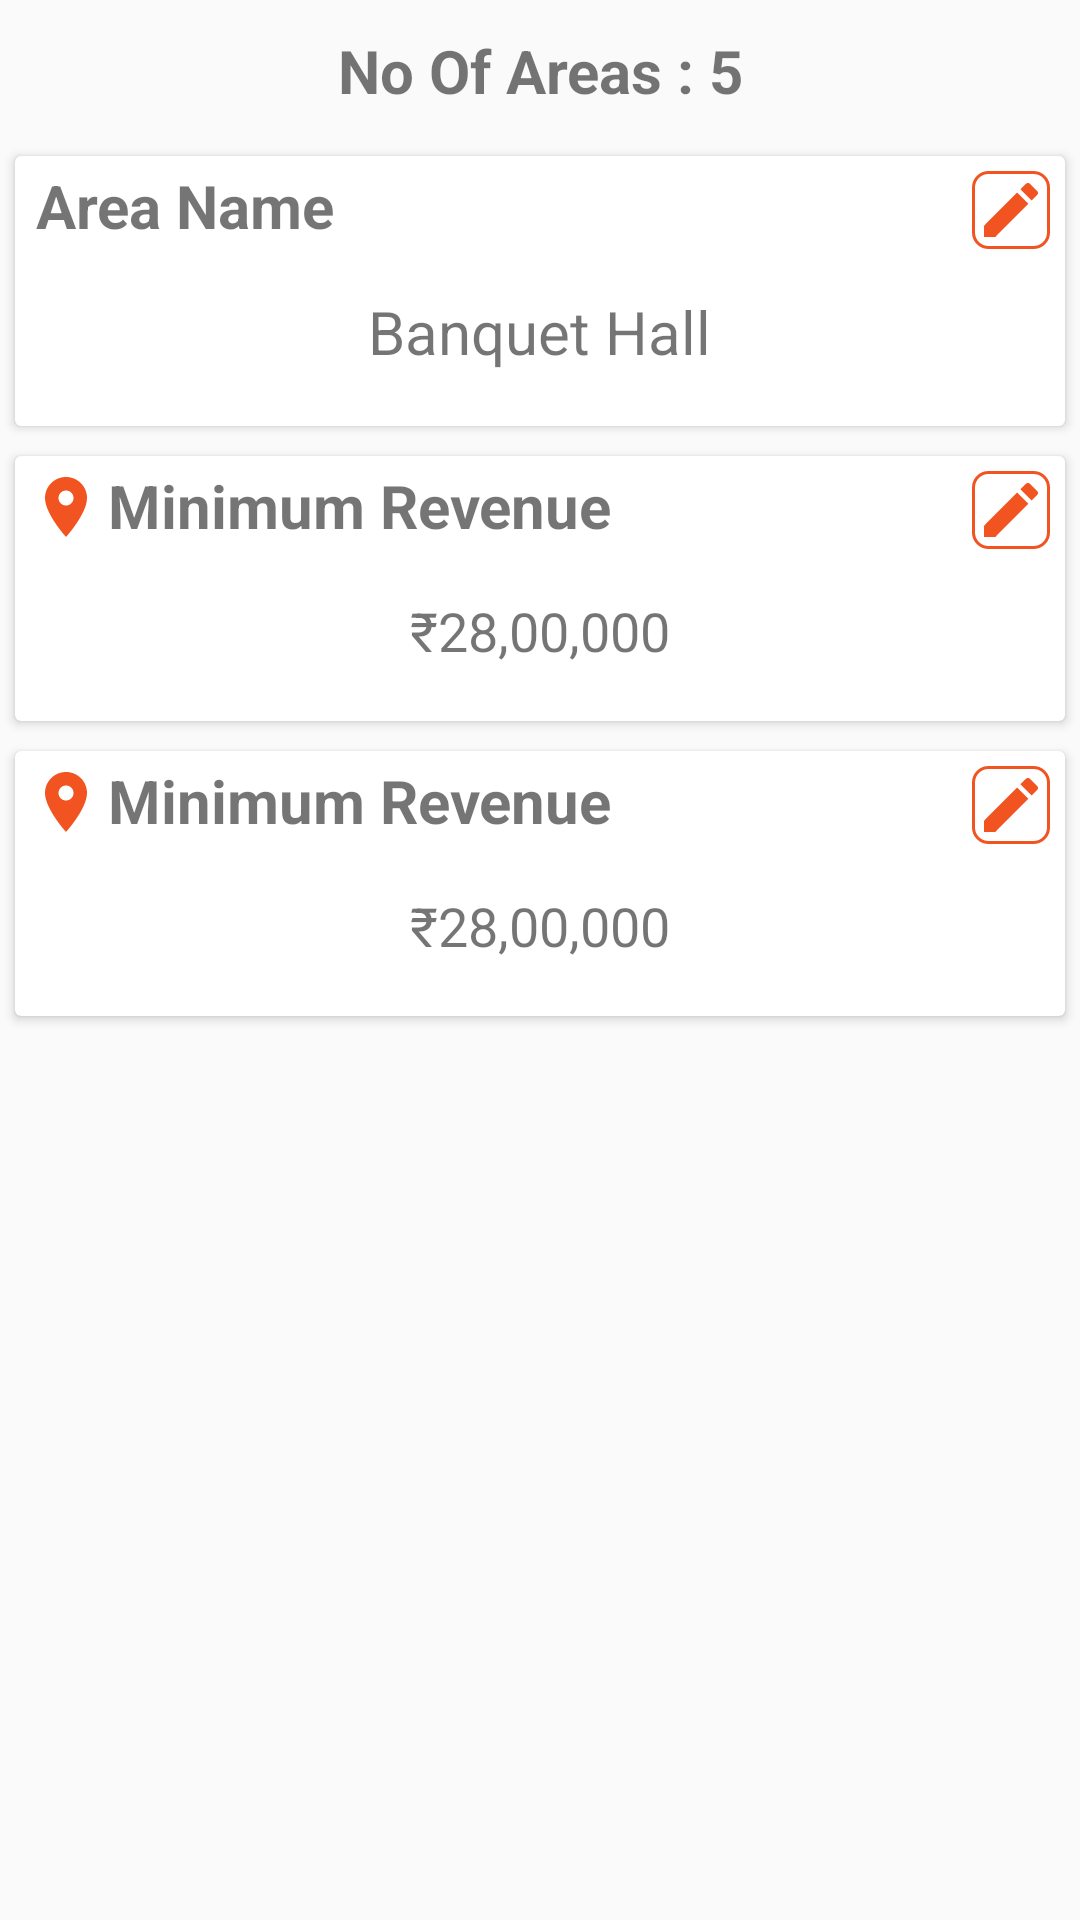

Named icons in this screenshot (1080 × 1920) and their bounding boxes, bbox=[x1, y1, x2, y2]:
edit: bbox=[972, 171, 1050, 249], bbox=[972, 471, 1050, 549], bbox=[972, 766, 1050, 844]
location: bbox=[45, 477, 87, 537], bbox=[45, 772, 87, 832]
